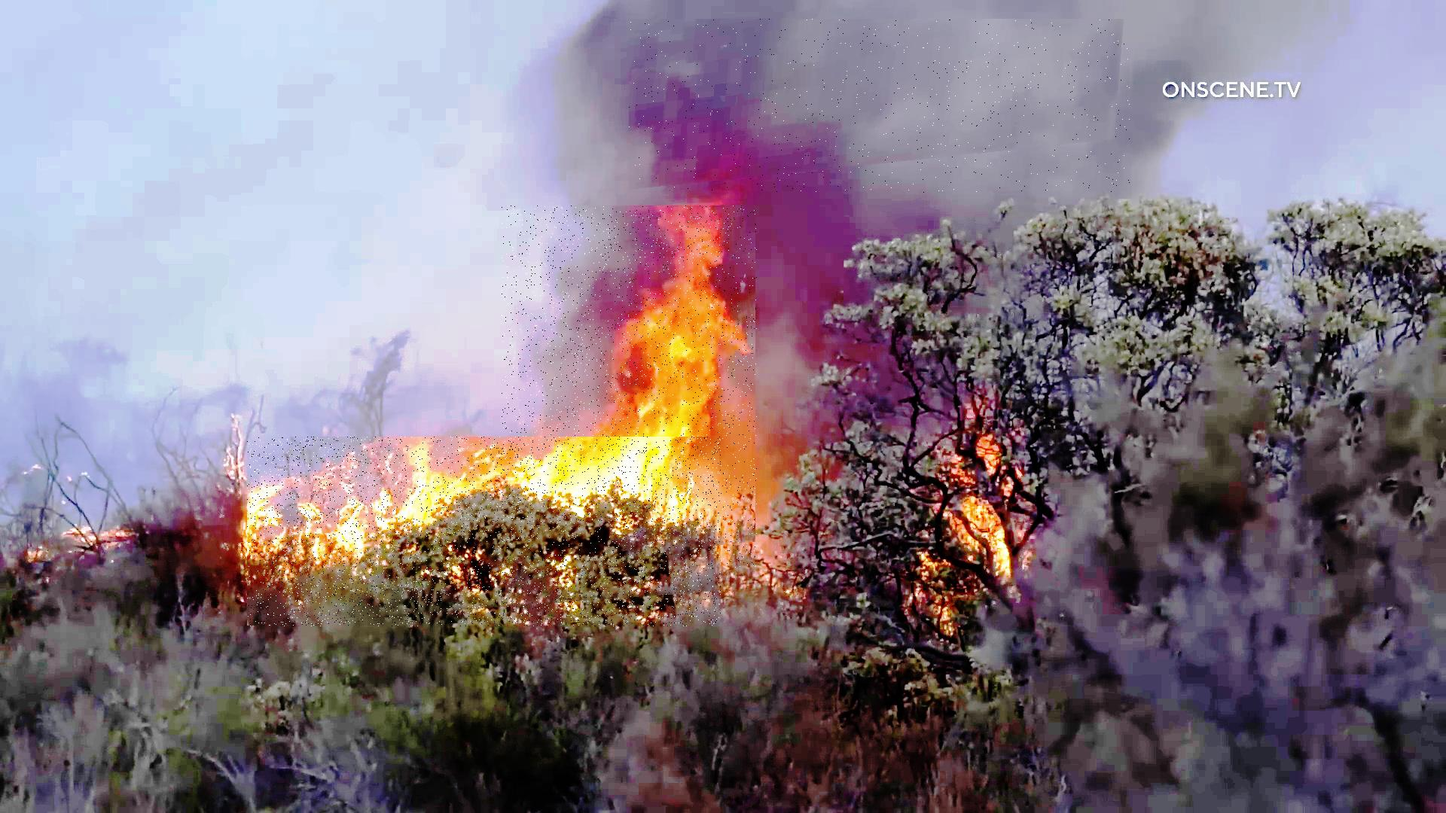fire: (502, 206, 757, 568), (247, 437, 721, 627)
smoke: (629, 19, 1130, 193)
